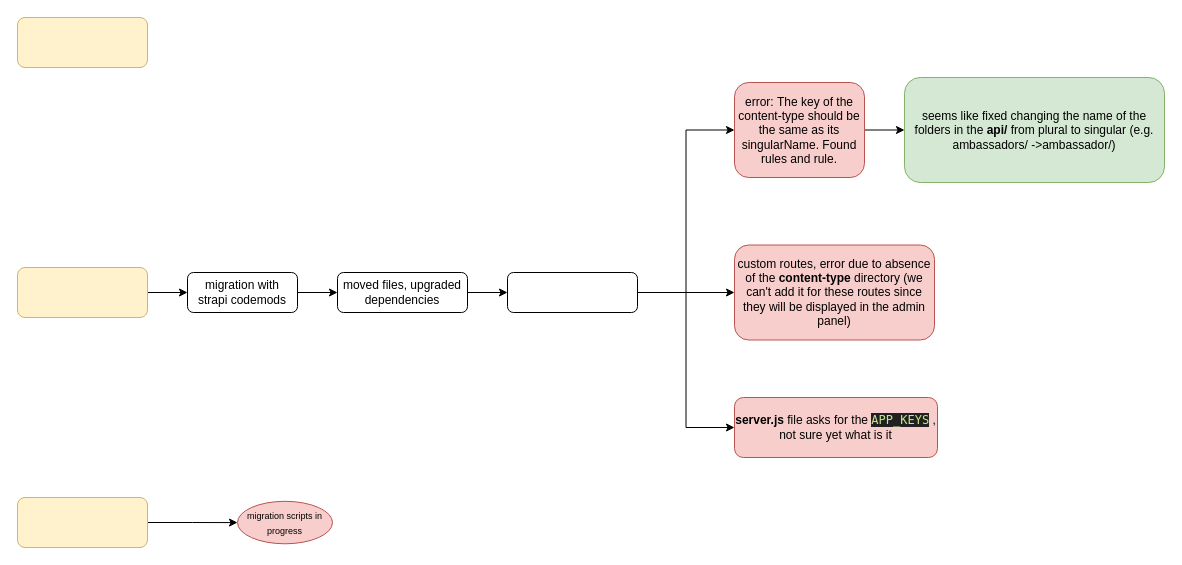
Some shapes in this 1182 by 565 pixel diagram are drawn without their labels. Here are the shapes that lost their labels. From the top down, the centre of each, then its label:
pixel 82 42: Fronted
pixel 82 292: Backend
pixel 572 292: trying to start up the server
pixel 82 522: DB
